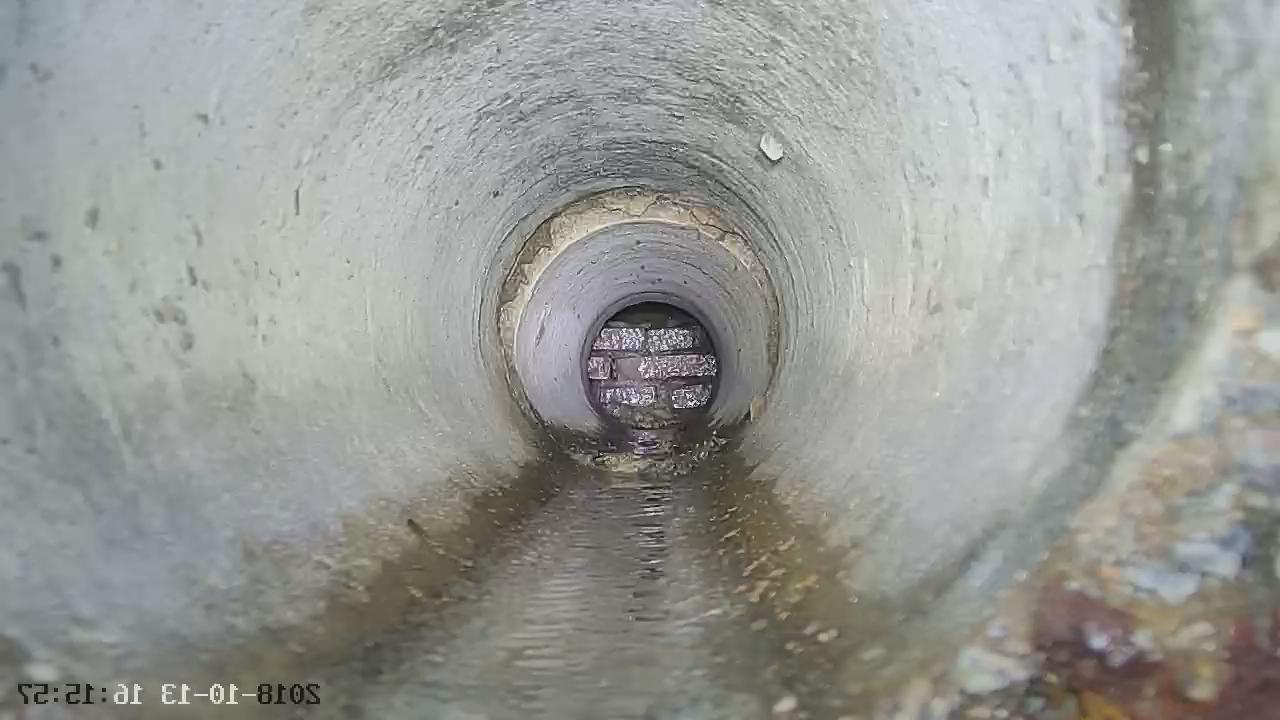CKTJ: (490, 189, 782, 442)
CQBG: (585, 303, 720, 454)
